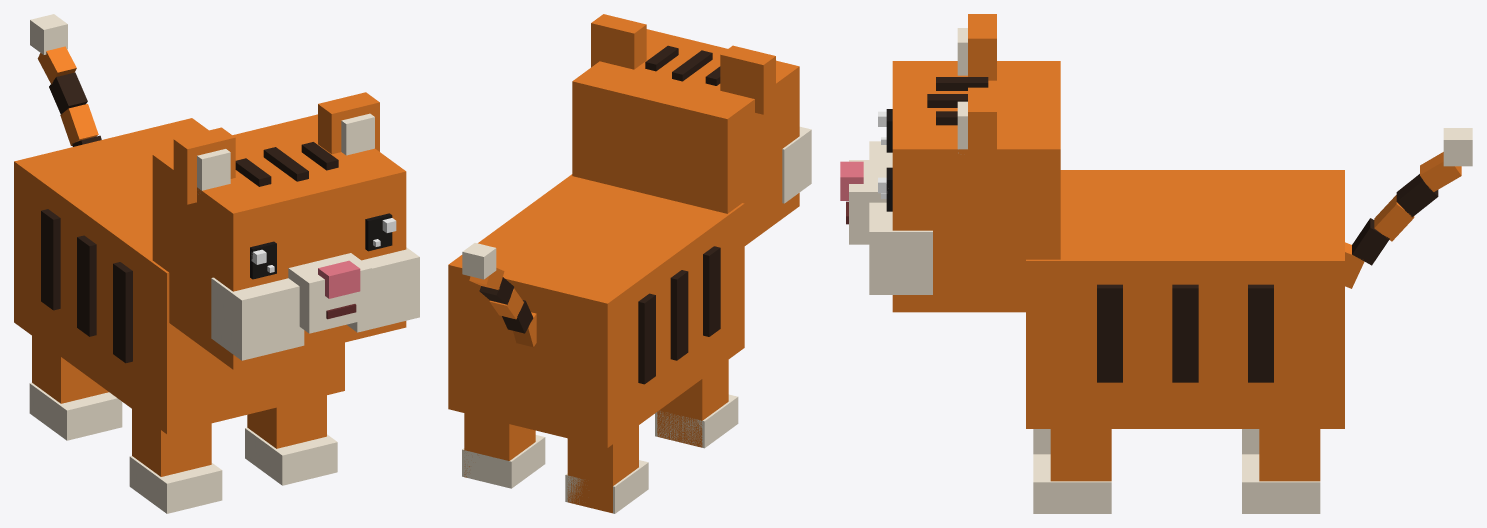
The model's file is tiger.glb.
3 views of the same model, side by side, from view 1: azimuth 30°, elevation 25°; view 2: azimuth 150°, elevation 25°; view 3: azimuth 270°, elevation 25° (orthographic). The views are drawn at different scales.
Visible parts, largest first — view 1: Tiger_Body, Tiger_Head, Tiger_Head_Pivot, Tiger_Paw_0, Tiger_Paw_1, Tiger_Cheek_0, Tiger_Paw_2, Tiger_Tail_Pivot, Tiger_Cheek_1, Tiger_Stripe_0_1, Tiger_Stripe_0_0, Tiger_Stripe_0_2 (+2 smaller); view 2: Tiger_Body, Tiger_Head, Tiger_Head_Pivot, Tiger_Paw_2, Tiger_Paw_3, Tiger_Paw_0, Tiger_Tail_Pivot, Tiger_Cheek_0, Tiger_Stripe_0_1, Tiger_Stripe_0_0, Tiger_Stripe_0_2; view 3: Tiger_Body, Tiger_Head, Tiger_Head_Pivot, Tiger_Paw_1, Tiger_Paw_3, Tiger_Tail_Pivot, Tiger_Cheek_1, Tiger_Stripe_1_1, Tiger_Stripe_1_0, Tiger_Stripe_1_2.
Boxes of the visible parts, <box> form: Tiger_Body: <box>14,118,344,434</box>; Tiger_Head: <box>152,114,406,369</box>; Tiger_Head_Pivot: <box>173,92,379,333</box>; Tiger_Paw_0: <box>129,409,222,513</box>; Tiger_Paw_1: <box>245,395,337,485</box>; Tiger_Cheek_0: <box>211,277,304,360</box>; Tiger_Paw_2: <box>29,336,122,440</box>; Tiger_Tail_Pivot: <box>30,14,101,146</box>; Tiger_Cheek_1: <box>347,247,419,332</box>; Tiger_Stripe_0_1: <box>77,235,96,336</box>; Tiger_Stripe_0_0: <box>41,209,60,310</box>; Tiger_Stripe_0_2: <box>113,262,132,363</box>; Tiger_Body: <box>448,174,744,447</box>; Tiger_Head: <box>572,29,799,245</box>; Tiger_Head_Pivot: <box>591,14,775,114</box>; Tiger_Paw_2: <box>565,425,648,513</box>; Tiger_Paw_3: <box>462,413,545,488</box>; Tiger_Paw_0: <box>655,360,738,448</box>; Tiger_Tail_Pivot: <box>462,243,536,347</box>; Tiger_Cheek_0: <box>782,126,811,203</box>; Tiger_Stripe_0_1: <box>670,270,688,360</box>; Tiger_Stripe_0_0: <box>638,293,655,384</box>; Tiger_Stripe_0_2: <box>703,246,720,336</box>; Tiger_Body: <box>1026,170,1344,428</box>; Tiger_Head: <box>892,61,1060,312</box>; Tiger_Head_Pivot: <box>840,14,996,244</box>; Tiger_Paw_1: <box>1033,429,1111,513</box>; Tiger_Paw_3: <box>1242,429,1320,513</box>; Tiger_Tail_Pivot: <box>1345,128,1472,288</box>; Tiger_Cheek_1: <box>869,202,932,294</box>; Tiger_Stripe_1_1: <box>1172,284,1198,382</box>; Tiger_Stripe_1_0: <box>1248,284,1273,382</box>; Tiger_Stripe_1_2: <box>1097,284,1122,382</box>.
Bounding box in the file's own units: 0.576 × 1.12 × 1.57.
